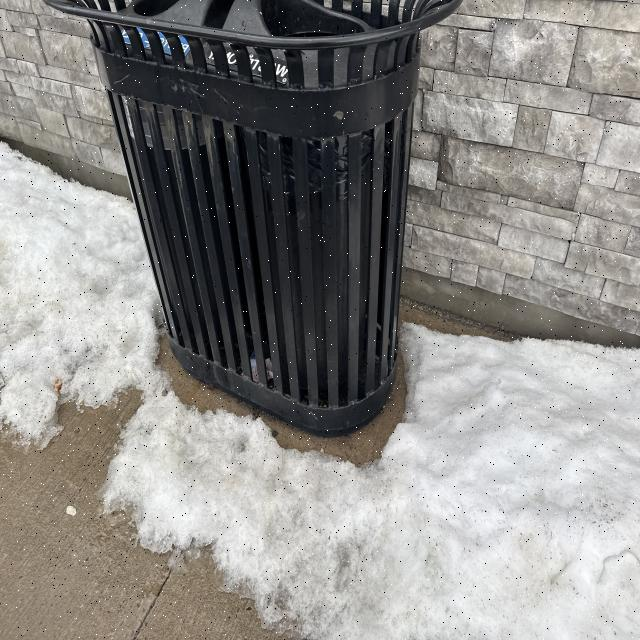Dustbin: (41, 0, 464, 437)
